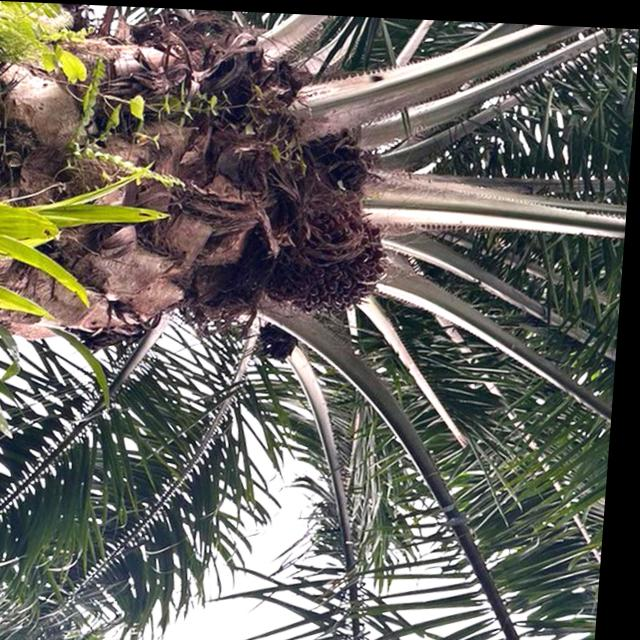ripe: (265, 181, 406, 320)
